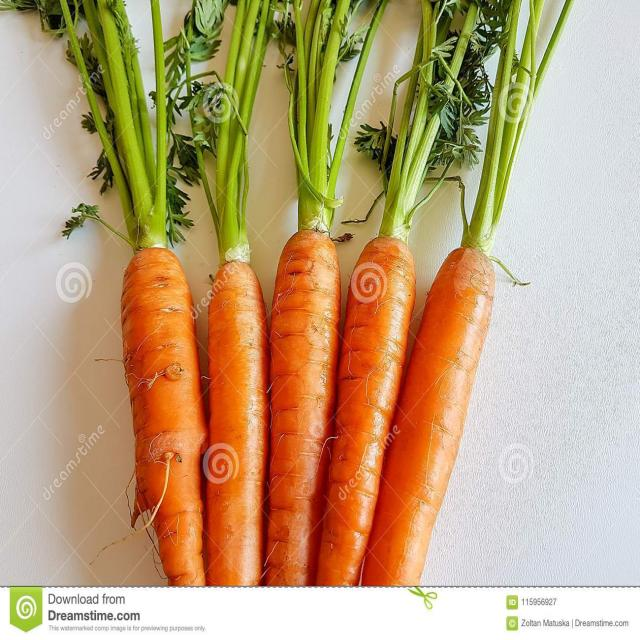Carrot: (362, 251, 504, 599), (314, 229, 414, 601), (116, 246, 208, 604), (259, 226, 346, 597), (201, 265, 269, 594)
